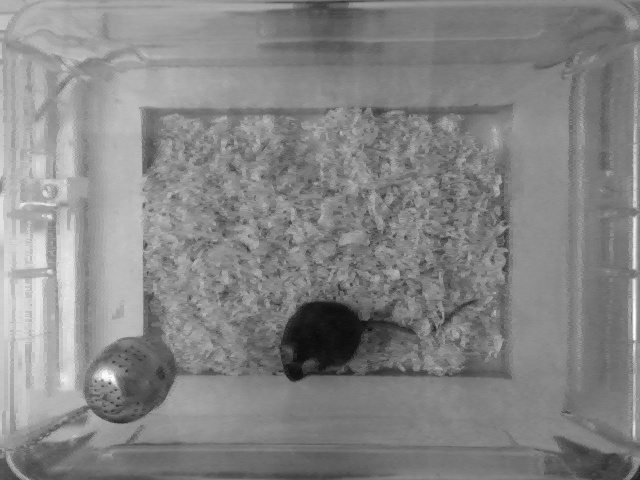mice: (278, 294, 479, 383)
